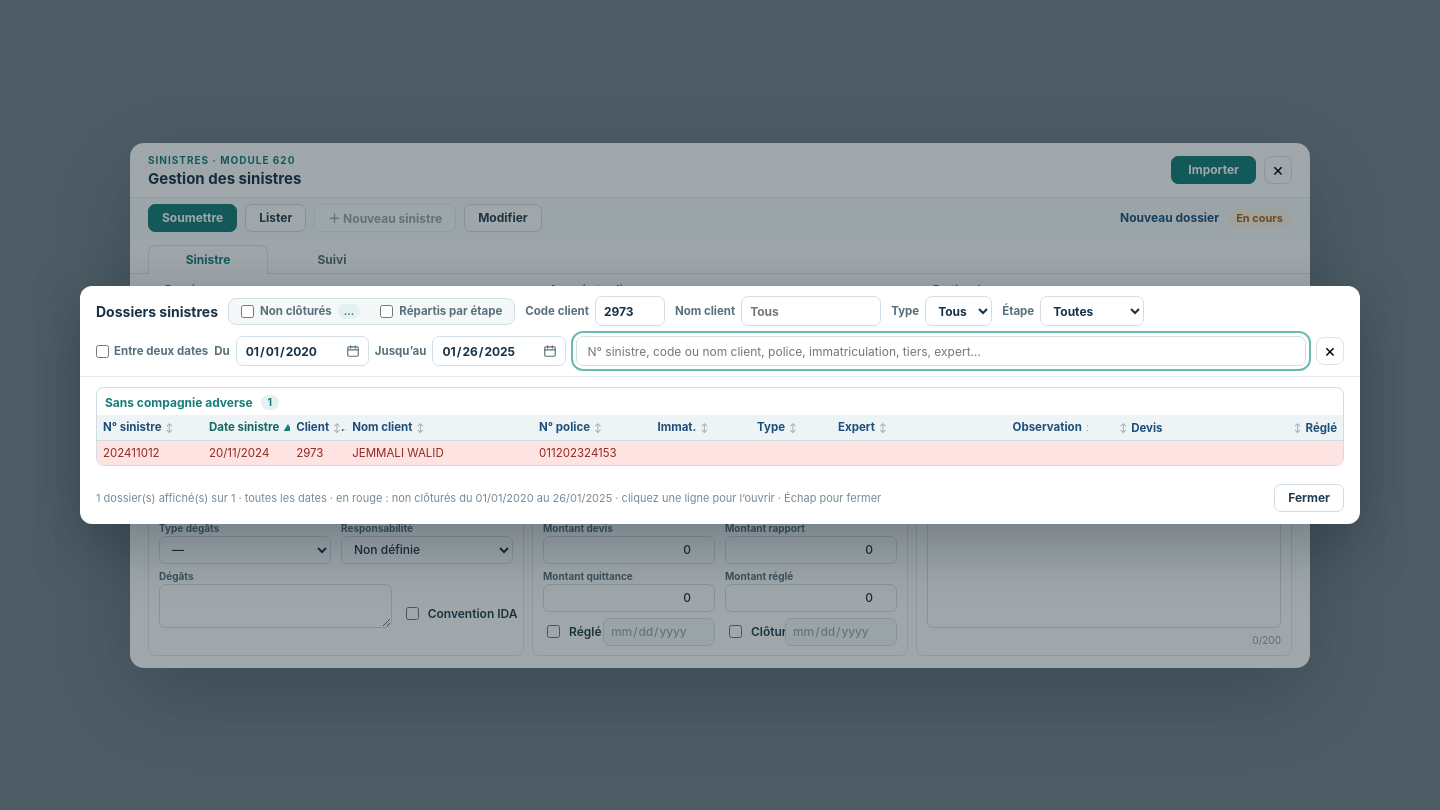
Scenario: "Annuler" puts the claim back as stored
Click the text "202411012": click(150, 453) [97,440,203,465]
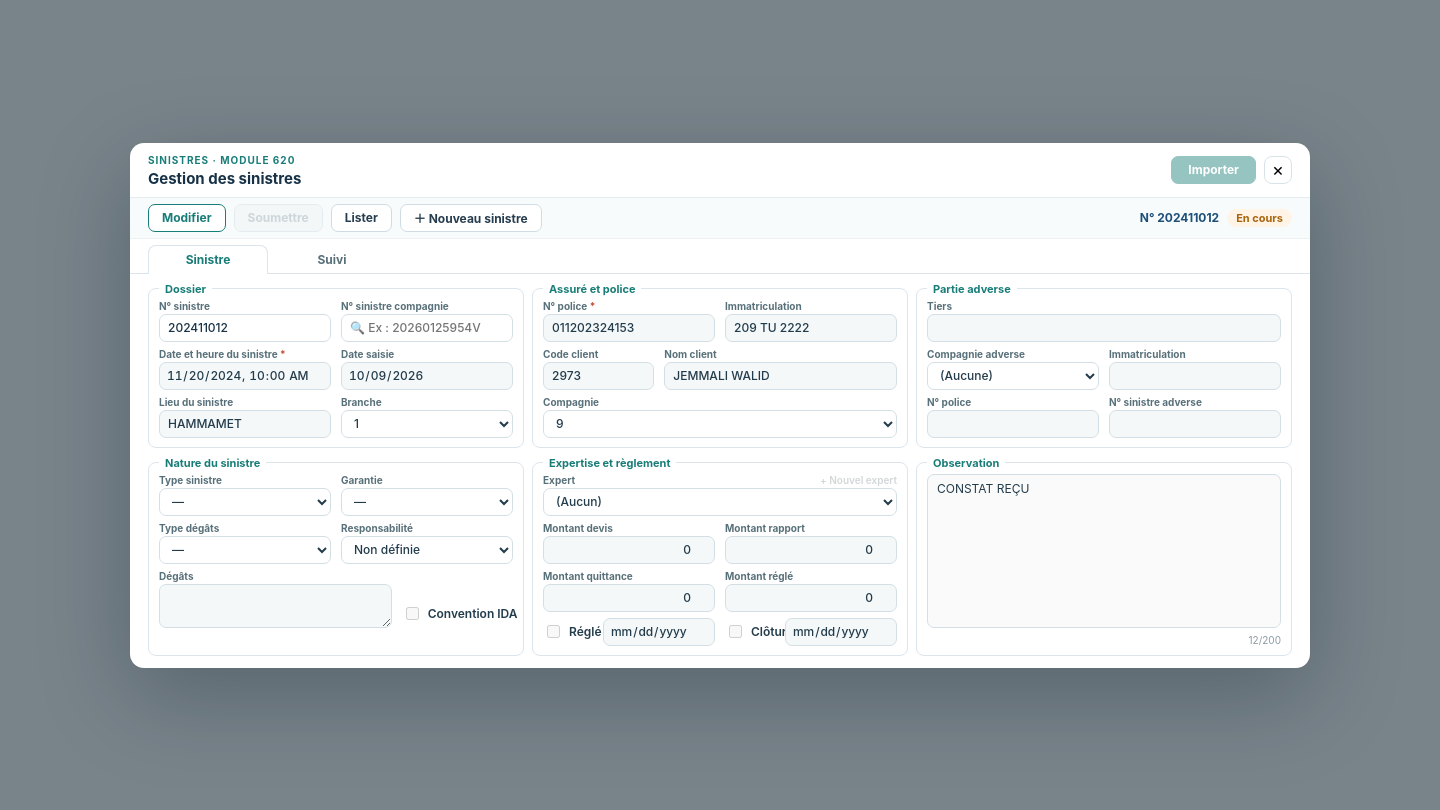
Click the button "Modifier": click(187, 218) [148,204,226,232]
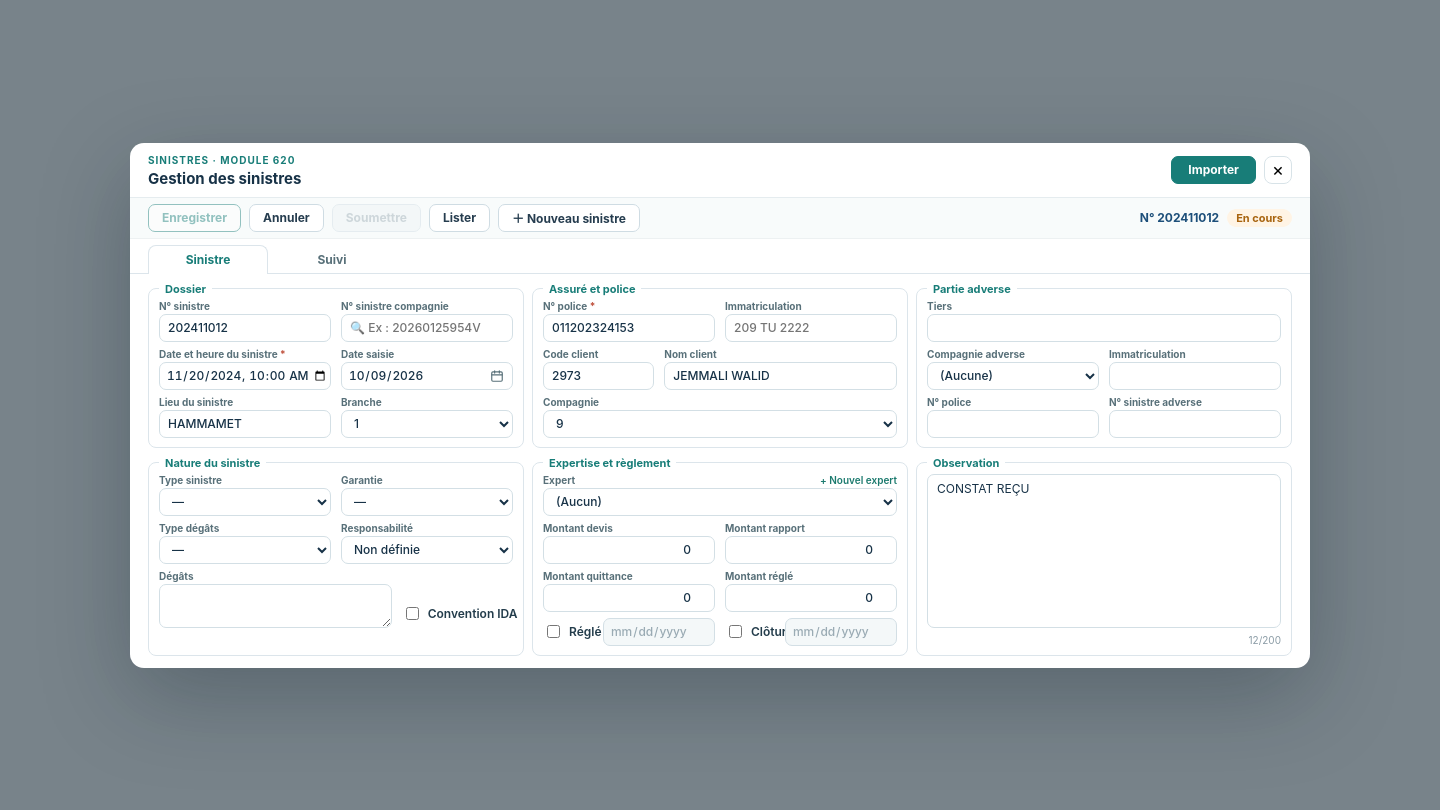
Replace the text in the text box named "Observation" with "autre": (1104, 550) [927,474,1281,628]
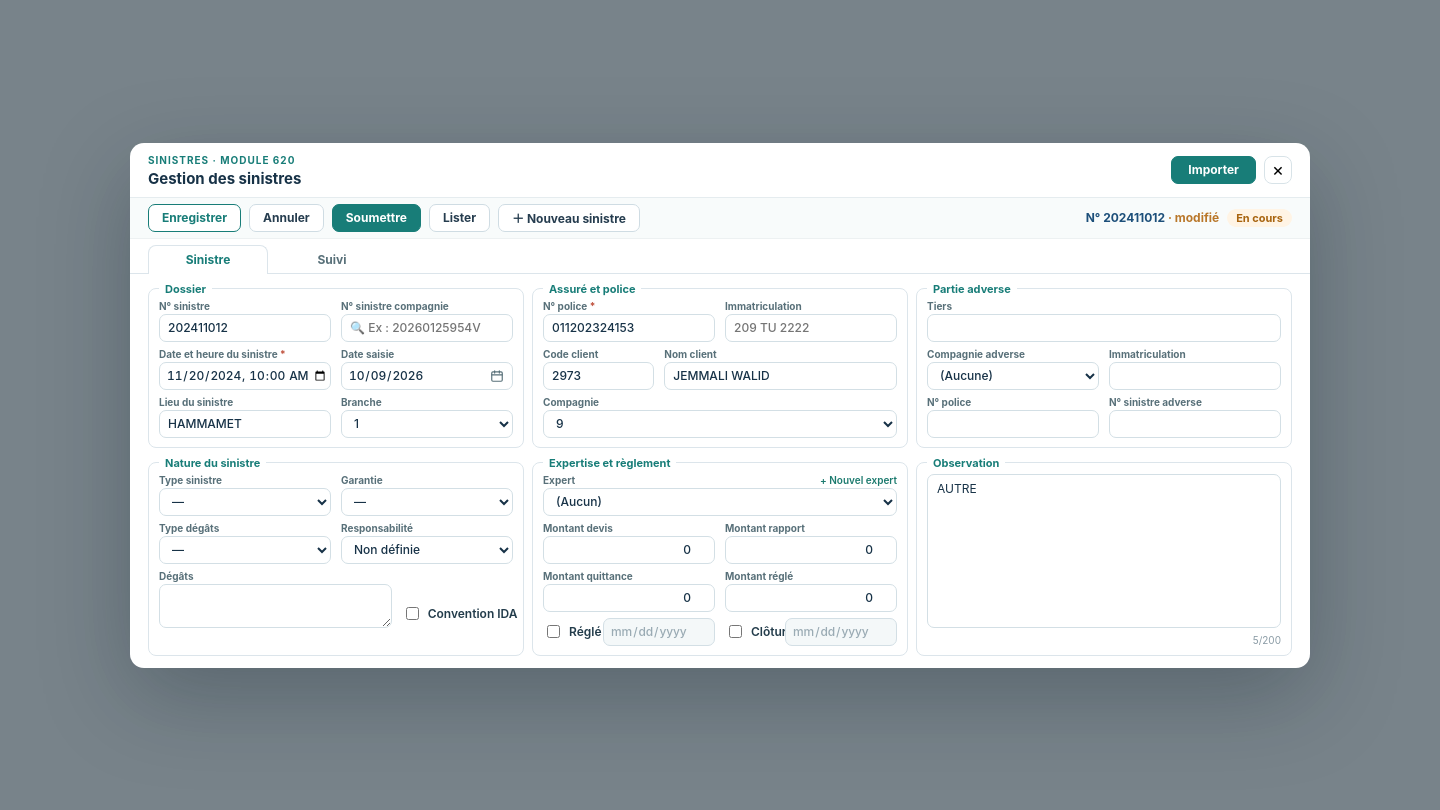
Click the button "Annuler": click(286, 218) [249,204,324,232]
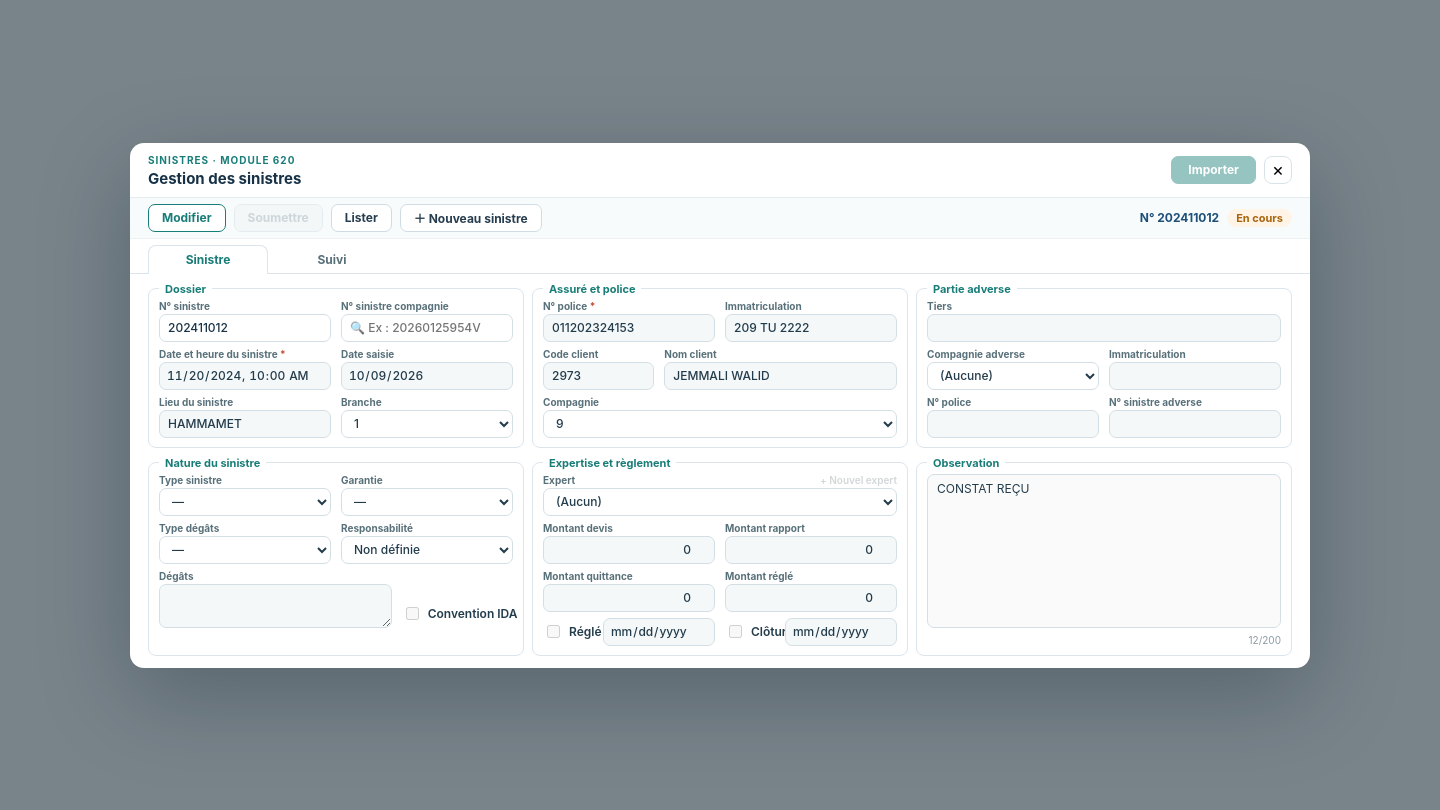
Expected: the text box named "Observation" is disabled, [927,474,1281,628]
Expected: the text box named "Observation" holds "constat reçu", [927,474,1281,628]
